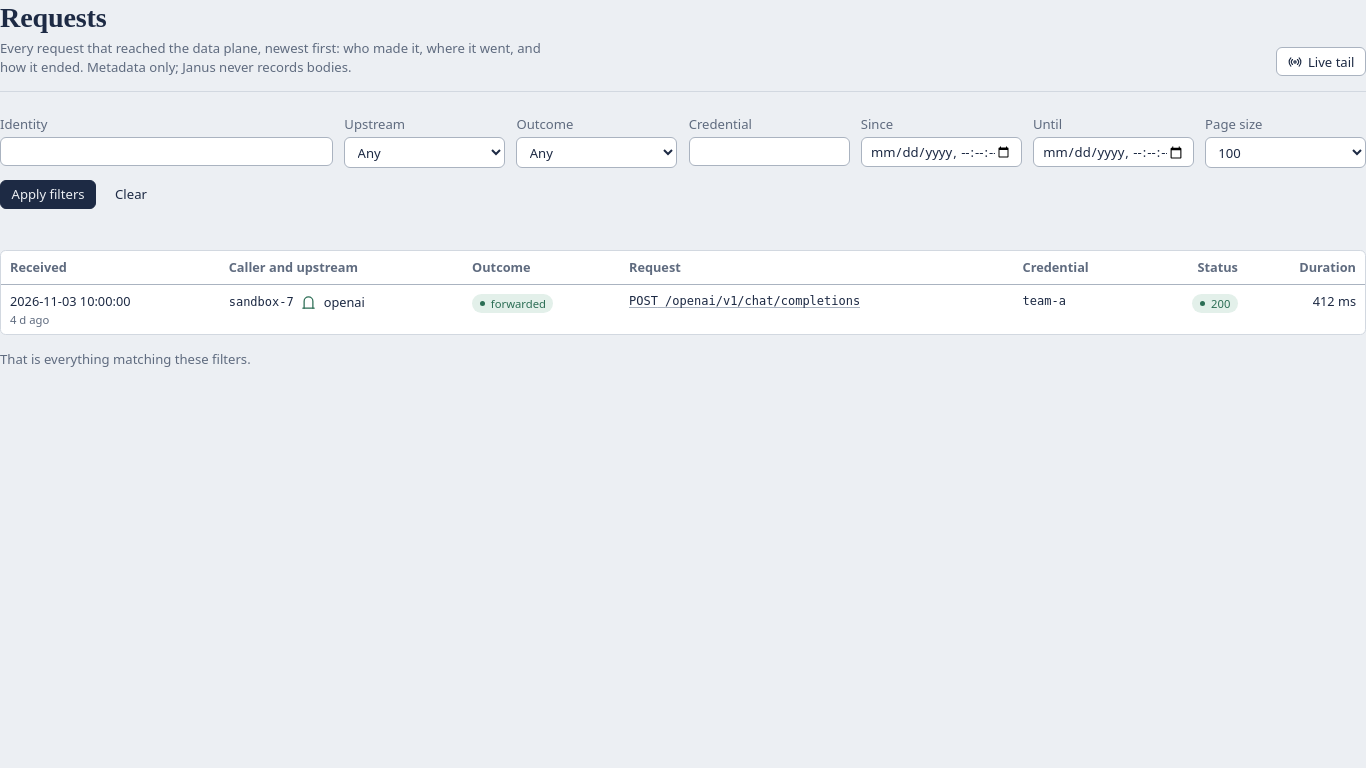
Test: Requests view › opens a detail drawer with the record fetched fresh, and closes it with Escape
The width and height of the screenshot is (1366, 768).
Click the button with aria-label "Show details of POST" at (745, 301), box [629, 292, 860, 310]
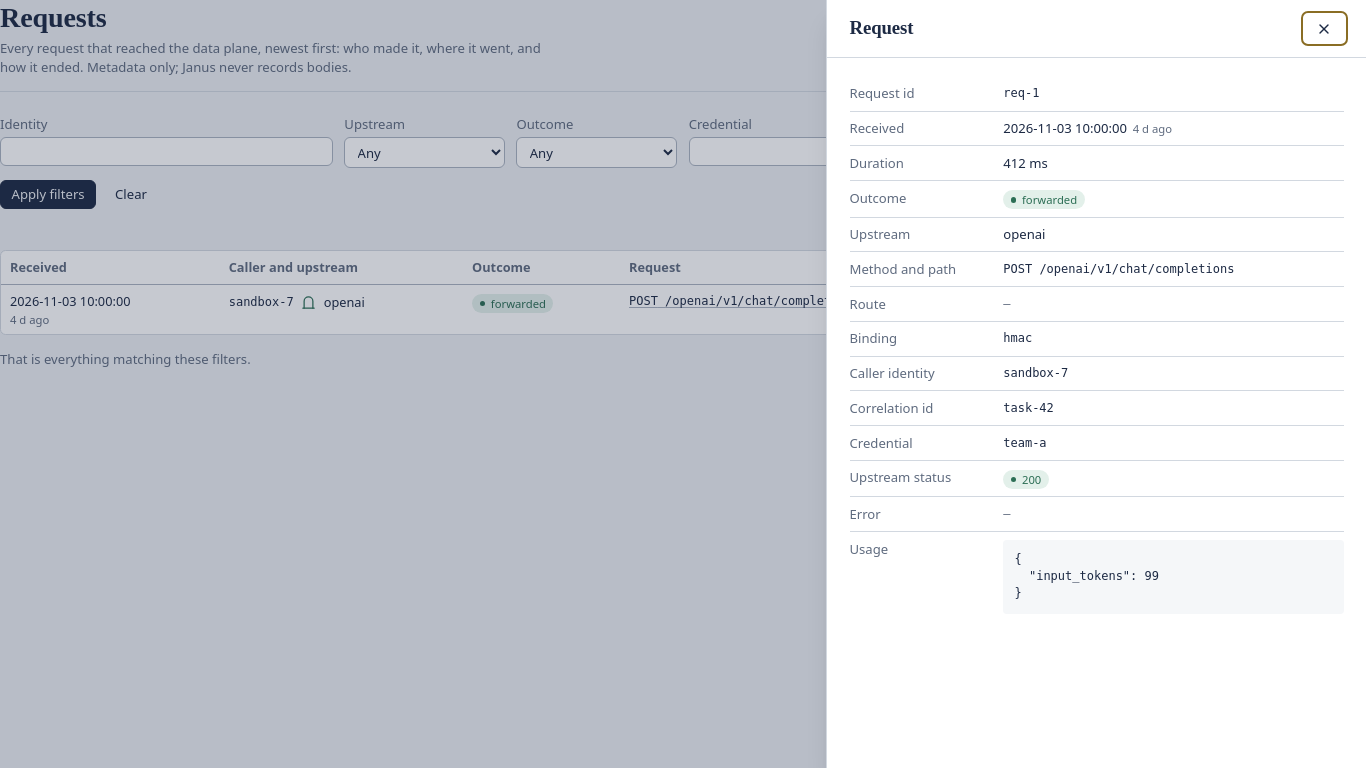
expect the text "req-1" is shown: met, box [1003, 86, 1039, 100]
expect the text "POST /openai/v1/chat/completions" is shown: met, box [1003, 262, 1234, 276]
expect the text "task-42" is shown: met, box [1003, 401, 1054, 415]
Press Escape
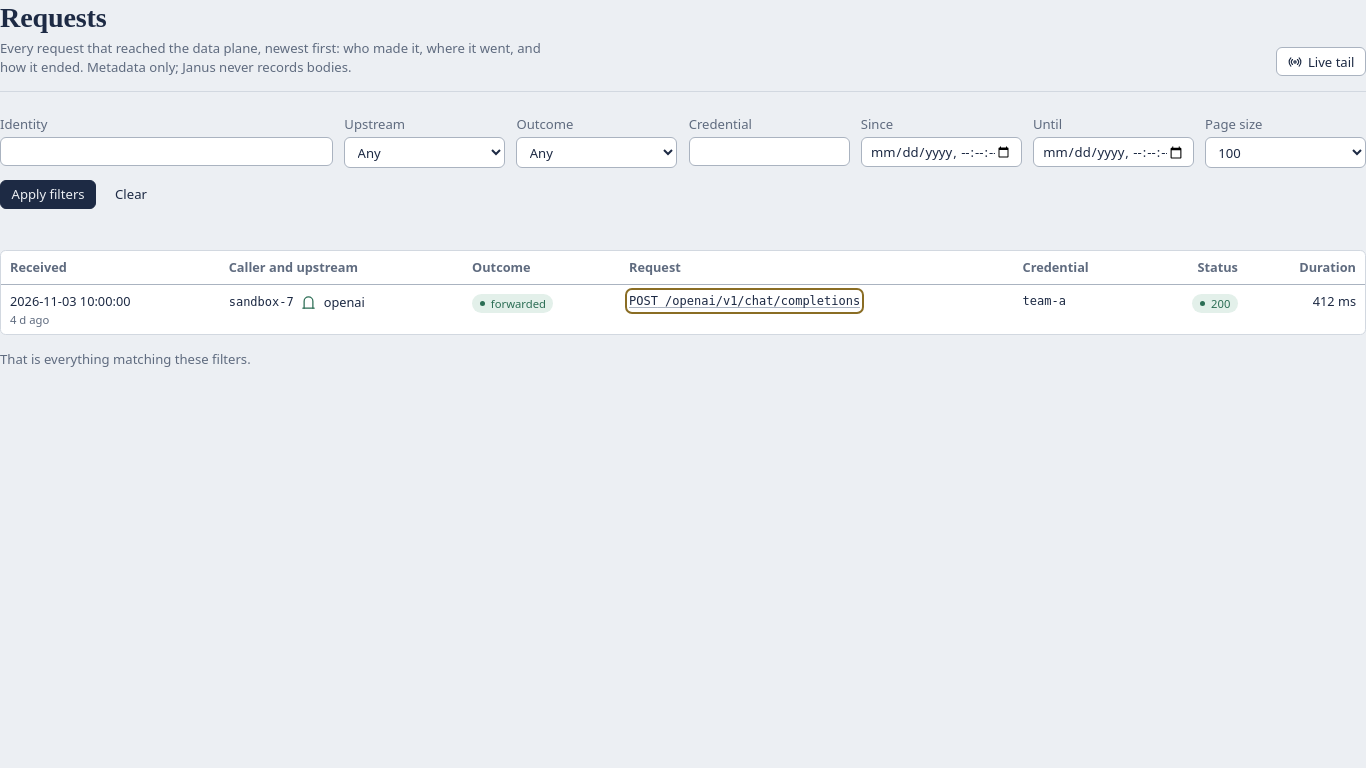
expect the dialog is gone: met
